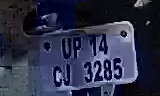1: (87, 35, 102, 60)
2: (91, 58, 105, 84)
3: (82, 61, 93, 85)
4: (98, 33, 111, 56)
5: (111, 57, 126, 82)
8: (102, 58, 113, 82)
C: (49, 63, 63, 90)
J: (63, 64, 73, 87)
P: (72, 36, 84, 60)
U: (60, 37, 73, 60)
